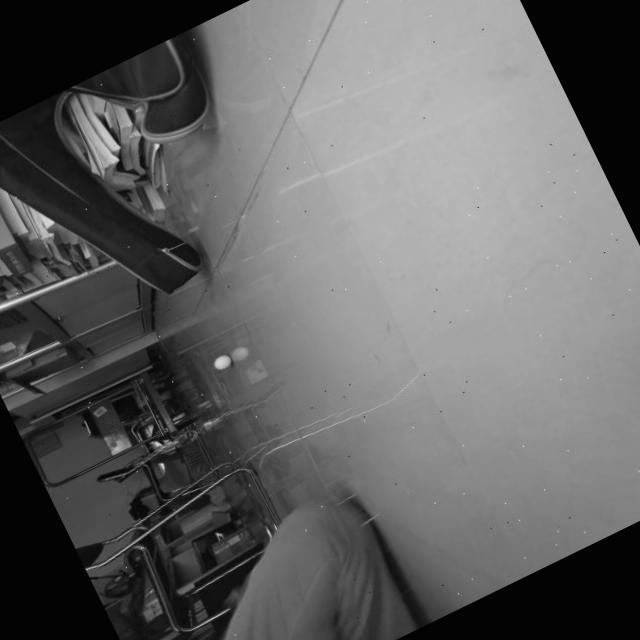ping-pong-ball: (210, 351, 233, 372)
